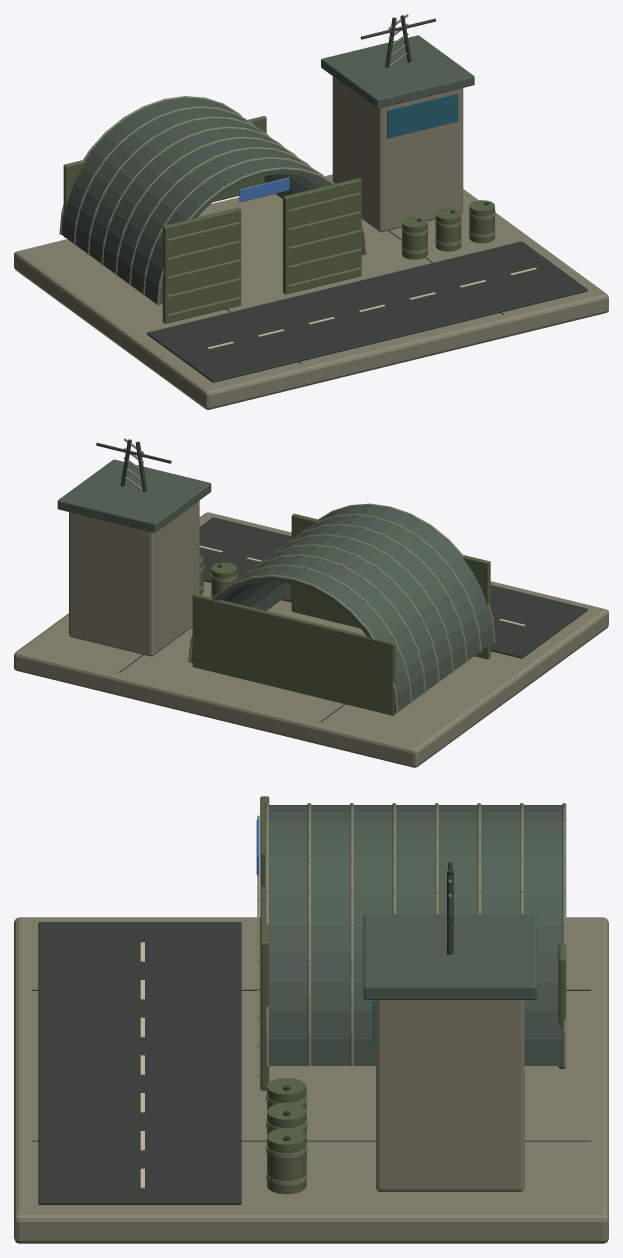
The model's file is airfield.glb.
3 views of the same model, one above another, from view 1: azimuth 30°, elevation 25°; view 2: azimuth 150°, elevation 25°; view 3: azimuth 270°, elevation 25° (orthographic). The views are drawn at different scales.
Parts seen in each view (by area): view 1: Concrete, RoofMetal, Steel, Armor, EdgeSteel, Optics, TeamColor; view 2: Concrete, RoofMetal, Armor, Steel, EdgeSteel; view 3: Concrete, RoofMetal, Steel, EdgeSteel, Armor, Markings.
Boxes of the visible parts, x1,y1,x2,y2 form: Concrete: [14, 76, 608, 409]; RoofMetal: [61, 35, 474, 304]; Steel: [147, 15, 587, 382]; Armor: [63, 116, 494, 323]; EdgeSteel: [59, 14, 495, 315]; Optics: [387, 93, 458, 138]; TeamColor: [239, 177, 289, 202]; Concrete: [14, 500, 608, 767]; RoofMetal: [57, 459, 493, 712]; Armor: [192, 513, 490, 715]; Steel: [96, 439, 587, 721]; EdgeSteel: [123, 438, 495, 713]; Concrete: [14, 917, 608, 1243]; RoofMetal: [269, 805, 562, 1065]; Steel: [32, 862, 590, 1204]; EdgeSteel: [257, 803, 566, 1185]; Armor: [260, 796, 566, 1194]; Markings: [140, 942, 144, 1188].
Size of the model in its own units: 7.2 by 3.58 by 6.
